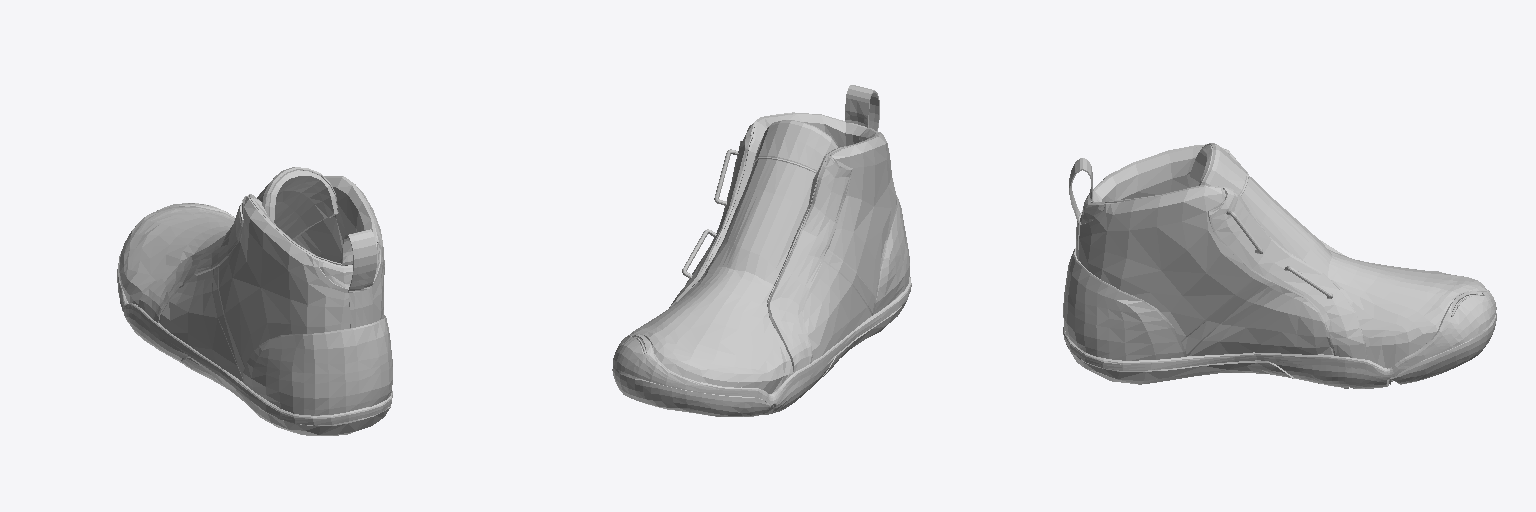
File: max-shoe-left.obj
3 renders of one model, left to right at view 1: azimuth 30°, elevation 25°; view 2: azimuth 150°, elevation 25°; view 3: azimuth 270°, elevation 25°, orthographic.
Parts seen in each view (by area): view 1: group16 polySurface13 polySurface1, group16 polySurface11 polySurface1, group16 polySurface34 polySurface1, group16 polySurface17 polySurface1, RetopoGroup1 group16 polySurface1, group16 polySurface20 polySurface1, group16 polySurface15 polySurface1, group16 pPlane25 polySurface1, group16 polySurface35 polySurface1; view 2: group16 polySurface34 polySurface1, group16 polySurface13 polySurface1, group16 polySurface20 polySurface1, RetopoGroup1 group16 polySurface1, group16 pPlane26 polySurface1, group16 polySurface17 polySurface1, group16 polySurface11 polySurface1, group16 polySurface19 polySurface1, group16 polySurface15 polySurface1, group16 polySurface35 polySurface1, group16 pPlane25 polySurface1; view 3: group16 polySurface13 polySurface1, group16 polySurface34 polySurface1, group16 polySurface11 polySurface1, group16 polySurface19 polySurface1, RetopoGroup1 group16 polySurface1, group16 polySurface17 polySurface1, group16 pPlane25 polySurface1, group16 pPlane26 polySurface1, group16 polySurface35 polySurface1, group16 polySurface15 polySurface1.
Part boxes in pixels (bbox=[...]): group16 polySurface13 polySurface1: bbox=[159, 177, 384, 381]; group16 polySurface11 polySurface1: bbox=[243, 315, 392, 415]; group16 polySurface34 polySurface1: bbox=[119, 167, 338, 304]; group16 polySurface17 polySurface1: bbox=[249, 176, 376, 402]; RetopoGroup1 group16 polySurface1: bbox=[117, 203, 392, 425]; group16 polySurface20 polySurface1: bbox=[138, 195, 248, 322]; group16 polySurface15 polySurface1: bbox=[342, 229, 376, 327]; group16 pPlane25 polySurface1: bbox=[183, 357, 390, 435]; group16 polySurface35 polySurface1: bbox=[124, 313, 189, 363]; group16 polySurface34 polySurface1: bbox=[628, 120, 837, 393]; group16 polySurface13 polySurface1: bbox=[743, 112, 896, 360]; group16 polySurface20 polySurface1: bbox=[768, 156, 852, 372]; RetopoGroup1 group16 polySurface1: bbox=[613, 277, 911, 403]; group16 pPlane26 polySurface1: bbox=[612, 366, 773, 416]; group16 polySurface17 polySurface1: bbox=[692, 113, 878, 306]; group16 polySurface11 polySurface1: bbox=[872, 197, 909, 315]; group16 polySurface19 polySurface1: bbox=[669, 135, 752, 307]; group16 polySurface15 polySurface1: bbox=[845, 85, 879, 130]; group16 polySurface35 polySurface1: bbox=[761, 356, 834, 414]; group16 pPlane25 polySurface1: bbox=[823, 300, 906, 376]; group16 polySurface13 polySurface1: bbox=[1079, 144, 1333, 355]; group16 polySurface34 polySurface1: bbox=[1190, 143, 1486, 368]; group16 polySurface11 polySurface1: bbox=[1063, 248, 1186, 360]; group16 polySurface19 polySurface1: bbox=[1208, 187, 1367, 359]; RetopoGroup1 group16 polySurface1: bbox=[1063, 290, 1496, 377]; group16 polySurface17 polySurface1: bbox=[1091, 145, 1335, 261]; group16 pPlane25 polySurface1: bbox=[1066, 344, 1295, 384]; group16 pPlane26 polySurface1: bbox=[1388, 313, 1496, 384]; group16 polySurface35 polySurface1: bbox=[1269, 361, 1388, 388]; group16 polySurface15 polySurface1: bbox=[1069, 158, 1093, 260].
Bounding box in the file's own units: 1.96 × 2.78 × 4.95.